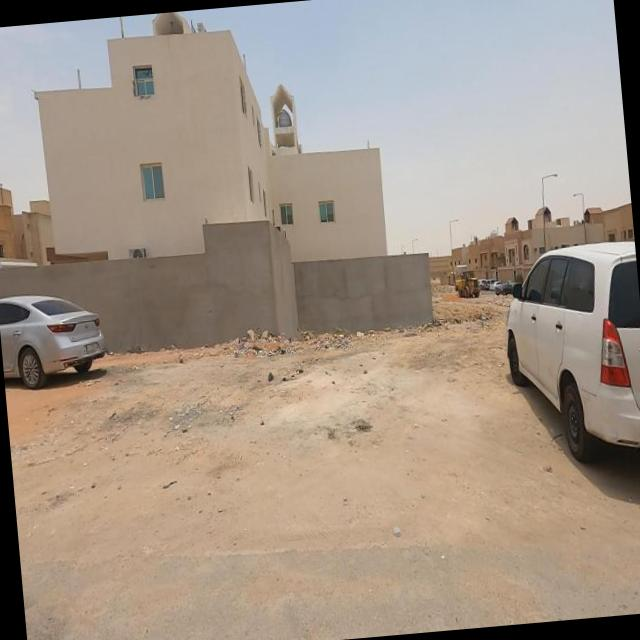debris: (211, 290, 295, 393)
